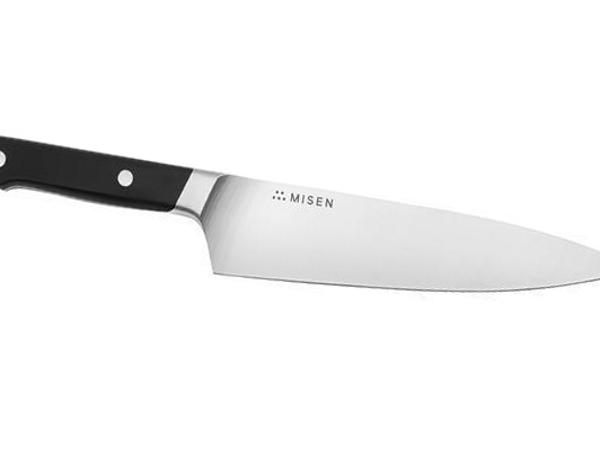knife: (1, 134, 600, 291)
